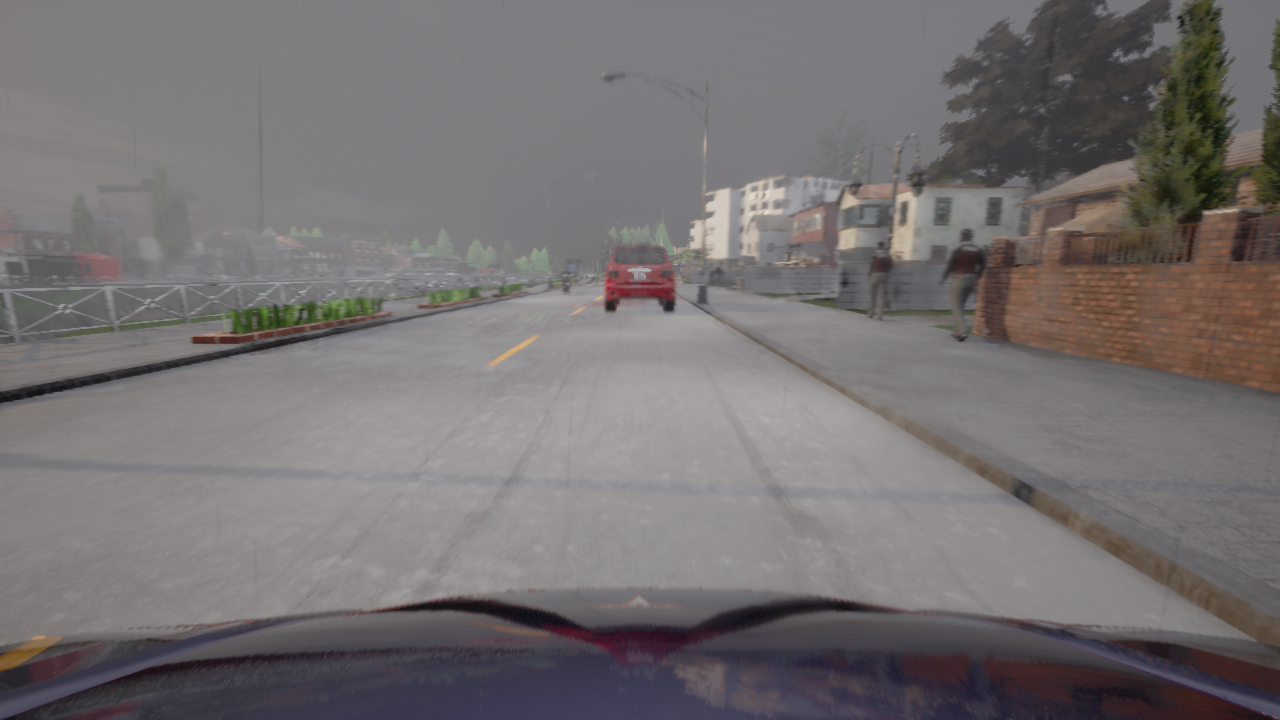cyclist: (0, 588, 1279, 719), (605, 245, 674, 311), (558, 273, 573, 295)
pedestrian: (939, 228, 987, 341), (866, 240, 893, 320), (713, 262, 722, 289)
